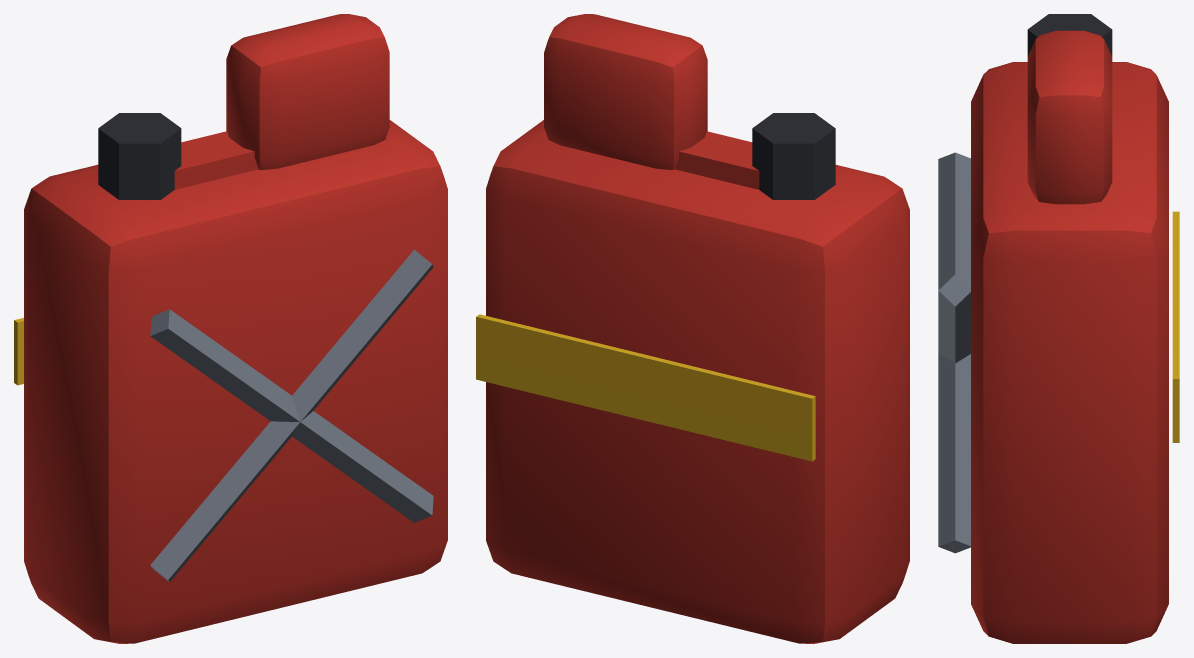
File: item_canister.glb
3 views of the same model, side by side, from view 1: azimuth 30°, elevation 25°; view 2: azimuth 150°, elevation 25°; view 3: azimuth 270°, elevation 25° (orthographic). The views are drawn at different scales.
Parts seen in each view (by area): view 1: item_canister, item_canister_detail; view 2: item_canister; view 3: item_canister, item_canister_detail.
Part boxes in pixels (x1,y1,x2,y2): item_canister: (14,14,447,643); item_canister_detail: (150,249,433,582); item_canister: (476,14,909,643); item_canister: (971,14,1179,643); item_canister_detail: (938,152,970,553).
Size of the model in its own units: 0.3 by 0.43 by 0.1705.
